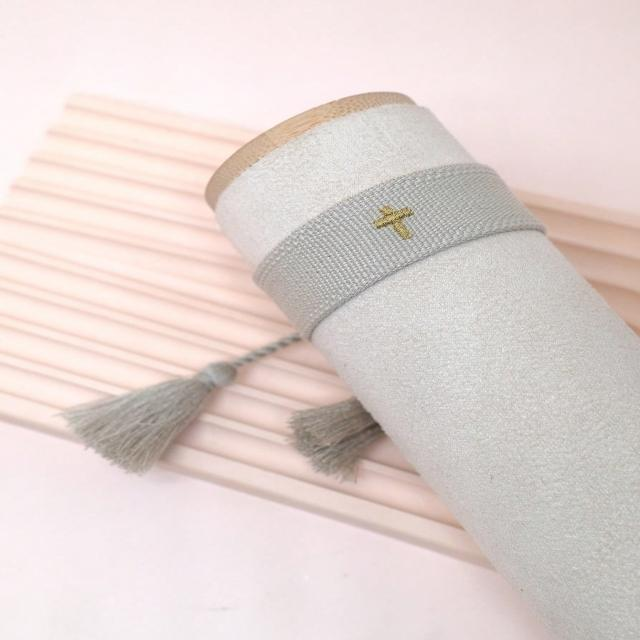bracelet: (28, 83, 602, 524)
